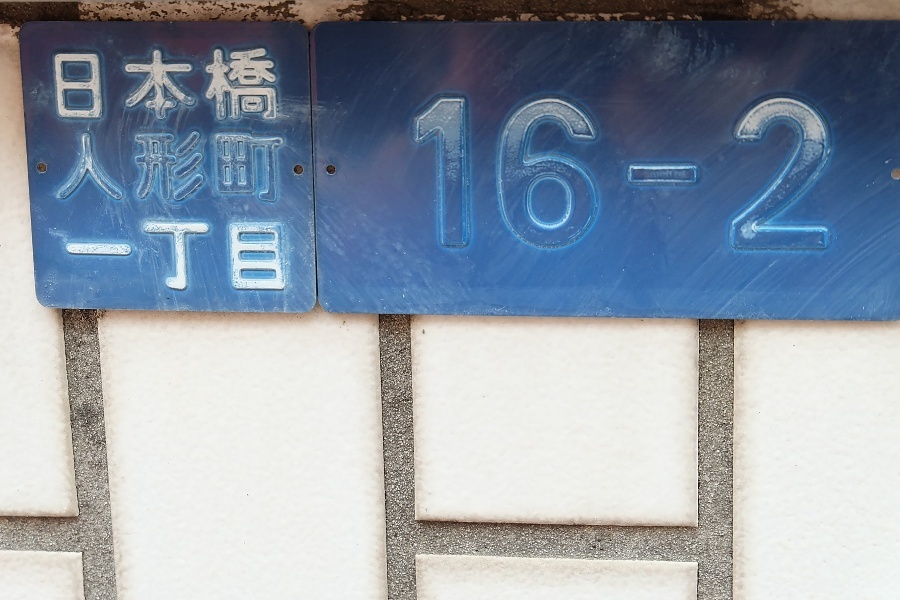text: (417, 92, 432, 253), (433, 92, 448, 253), (449, 92, 464, 253), (465, 92, 480, 253), (481, 92, 496, 253), (497, 92, 512, 253), (513, 92, 528, 253), (529, 92, 544, 253), (545, 92, 560, 253), (561, 92, 576, 253), (577, 92, 592, 253), (593, 92, 608, 253), (609, 92, 624, 253), (625, 92, 640, 253), (641, 92, 656, 253), (657, 92, 672, 253), (673, 92, 688, 253), (689, 92, 704, 253), (705, 92, 720, 253), (721, 92, 736, 253), (737, 92, 752, 253), (753, 92, 768, 253), (769, 92, 784, 253), (785, 92, 800, 253), (801, 92, 816, 253), (817, 92, 832, 253), (65, 48, 80, 124), (81, 48, 96, 124), (97, 48, 112, 124), (113, 48, 128, 124), (129, 48, 144, 124), (145, 48, 160, 124), (161, 48, 176, 124), (177, 48, 192, 124), (193, 48, 208, 124), (209, 48, 224, 124), (225, 48, 240, 124), (241, 48, 256, 124), (257, 48, 272, 124), (65, 221, 80, 295), (81, 221, 96, 295), (97, 221, 112, 295), (113, 221, 128, 295), (129, 221, 144, 295), (145, 221, 160, 295), (161, 221, 176, 295), (177, 221, 192, 295), (193, 221, 208, 295), (209, 221, 224, 295), (225, 221, 240, 295), (241, 221, 256, 295), (257, 221, 272, 295), (81, 132, 96, 205), (97, 132, 112, 205), (113, 132, 128, 205), (129, 132, 144, 205), (145, 132, 160, 205), (161, 132, 176, 205), (177, 132, 192, 205), (193, 132, 208, 205), (209, 132, 224, 205), (225, 132, 240, 205), (241, 132, 256, 205), (257, 132, 272, 205), (273, 221, 287, 295), (410, 92, 416, 253), (52, 48, 64, 124), (273, 48, 284, 124), (273, 132, 284, 205), (833, 92, 836, 253), (61, 221, 64, 295), (77, 132, 80, 205)
